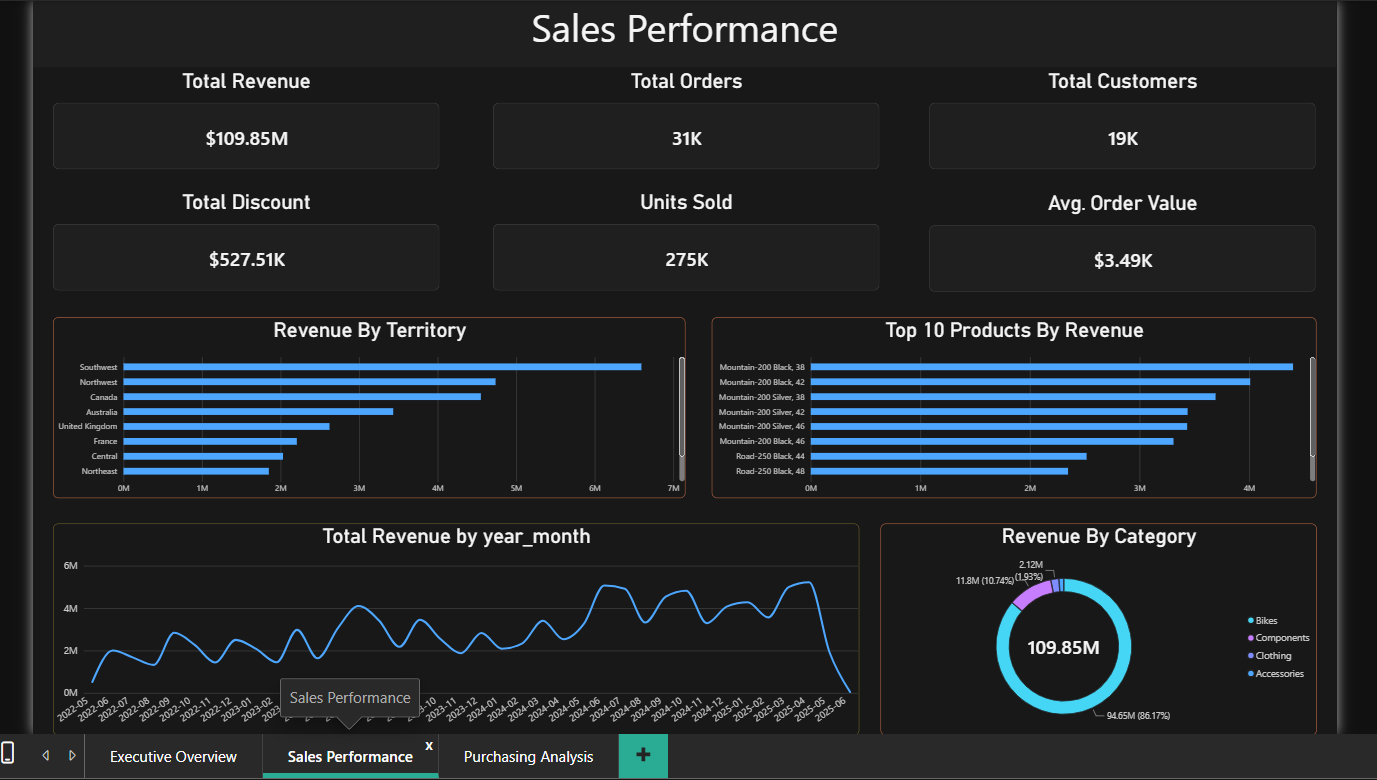

What the dashboard file says about the page in this screenshot:
{"tool":"powerbi","page":{"name":"Sales Performance","canvas":[1920,1080],"ordinal":1},"visuals":[{"type":"textbox","box":[0,0,1919.3,97.7],"z":0},{"type":"cardVisual","title":"Total Orders","fields":{"Data":["FACT_SALES.Total Orders"]},"box":[677.8,99.3,569.7,149],"z":3},{"type":"cardVisual","title":"Total Revenue","fields":{"Data":["FACT_SALES.Total Revenue"]},"box":[29.2,99.3,569.7,149],"z":4},{"type":"cardVisual","title":"Total Customers","fields":{"Data":["FACT_SALES.Total Customers"]},"box":[1320.5,99.3,569.7,149],"z":5},{"type":"cardVisual","title":"Avg. Order Value","fields":{"Data":["FACT_SALES.Average Order Value"]},"box":[1320.5,280.5,569.7,149],"z":6},{"type":"cardVisual","title":"Units Sold","fields":{"Data":["FACT_SALES.Units Sold"]},"box":[677.8,277.5,569.7,149],"z":7},{"type":"cardVisual","title":"Total Discount","fields":{"Data":["FACT_SALES.Total Discount"]},"box":[29.2,277.5,569.7,149],"z":8},{"type":"lineChart","fields":{"Category":["DIM_DATE.year_month"],"Y":["FACT_SALES.Total Revenue"]},"box":[30,770,1186.9,311.7],"z":9},{"type":"clusteredBarChart","title":"Top 10 Products  By Revenue","fields":{"Category":["DIM_PRODUCT.productname"],"Y":["FACT_SALES.Total Revenue"]},"box":[999.1,465.7,890.2,266.7],"z":10},{"type":"clusteredBarChart","title":"Revenue By Territory","fields":{"Category":["DIM_TERRITORY.territoryname"],"Y":["FACT_SALES.Total Revenue"]},"box":[30,465.7,931.5,266.7],"z":11},{"type":"donutChart","title":"Revenue By Category","fields":{"Category":["DIM_PRODUCT.categoryname"],"Y":["FACT_SALES.Total Revenue"]},"box":[1247,770,642.3,311.7],"z":12}]}

Visuals, with their boxes on the page's 1920x1080 design canvas (x1, y1, x2, y2). These are canvas units, not pixel positions in the 1377x780 screenshot, which may show the page scaled, cropped or inside an application window:
textbox: (x1=0, y1=0, x2=1919, y2=98)
"Total Orders" cardVisual: (x1=678, y1=99, x2=1248, y2=248)
"Total Revenue" cardVisual: (x1=29, y1=99, x2=599, y2=248)
"Total Customers" cardVisual: (x1=1320, y1=99, x2=1890, y2=248)
"Avg. Order Value" cardVisual: (x1=1320, y1=280, x2=1890, y2=430)
"Units Sold" cardVisual: (x1=678, y1=278, x2=1248, y2=426)
"Total Discount" cardVisual: (x1=29, y1=278, x2=599, y2=426)
lineChart - DIM_DATE.year_month x FACT_SALES.Total Revenue: (x1=30, y1=770, x2=1217, y2=1082)
"Top 10 Products  By Revenue" clusteredBarChart: (x1=999, y1=466, x2=1889, y2=732)
"Revenue By Territory" clusteredBarChart: (x1=30, y1=466, x2=962, y2=732)
"Revenue By Category" donutChart: (x1=1247, y1=770, x2=1889, y2=1082)
